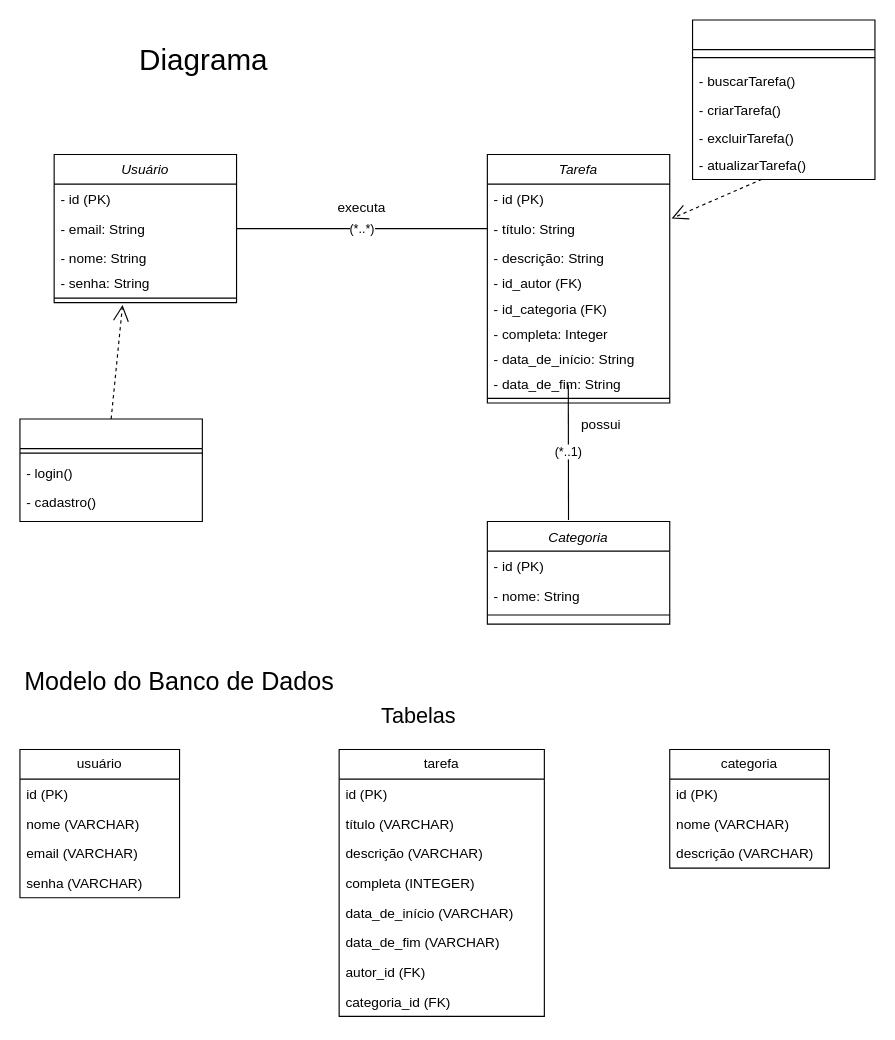
The diagram is 895 pixels wide and 1040 high, and some of its shapes have lost their labels. Each missing label, with the box of its shape:
Serviço de Autenticação: (19, 418, 202, 522)
Serviço de Tarefa: (691, 19, 875, 180)
